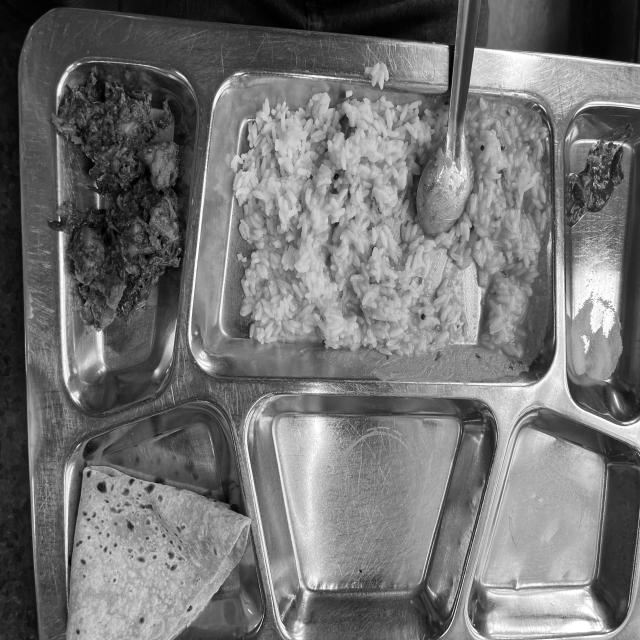70-Food-Left: (41, 25, 640, 625)
